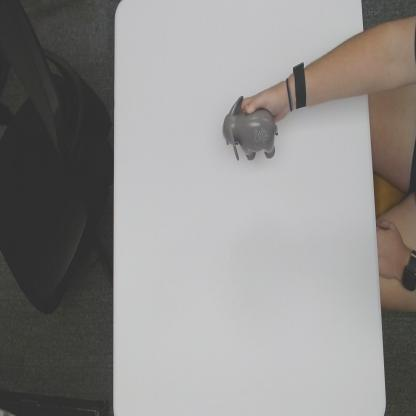Arm: (308, 28, 365, 108)
Elephant: (222, 94, 278, 163)
Hand: (238, 74, 293, 124)
